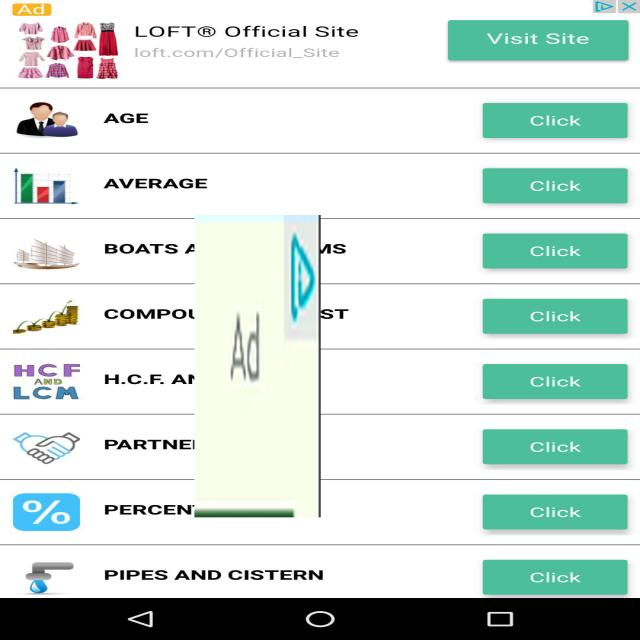sneaking: (194, 215, 320, 517)
